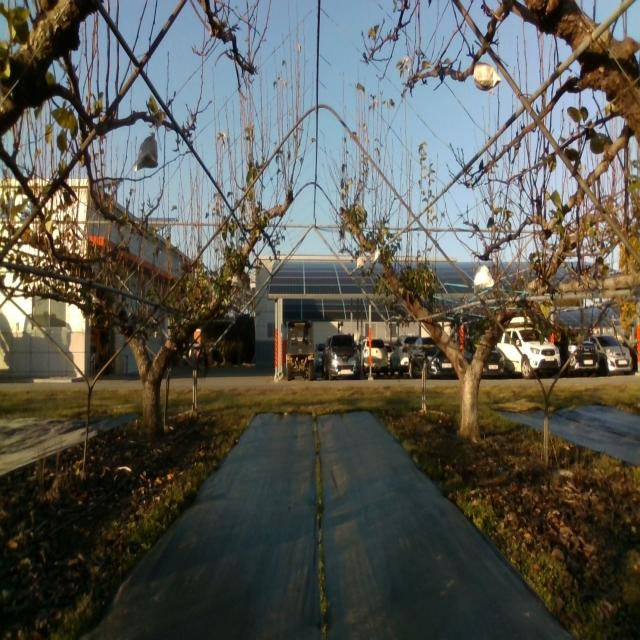pearbags: (134, 132, 159, 172), (473, 62, 501, 94), (474, 264, 494, 294)
